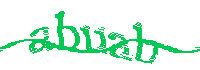a: (109, 30, 132, 60), (29, 26, 51, 55)
b: (55, 10, 81, 53), (133, 20, 159, 63)
u: (81, 24, 108, 55)
